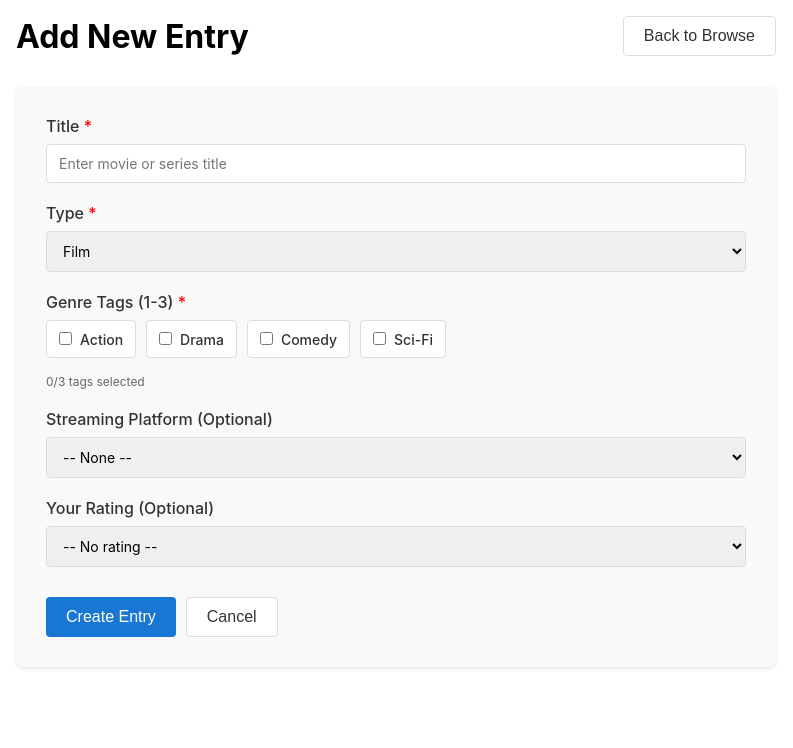
Test case: AddEntryPage › should prevent selecting more than 3 tags
Click the checkbox labelled "Action" at (66, 338), box [59,332,72,345]
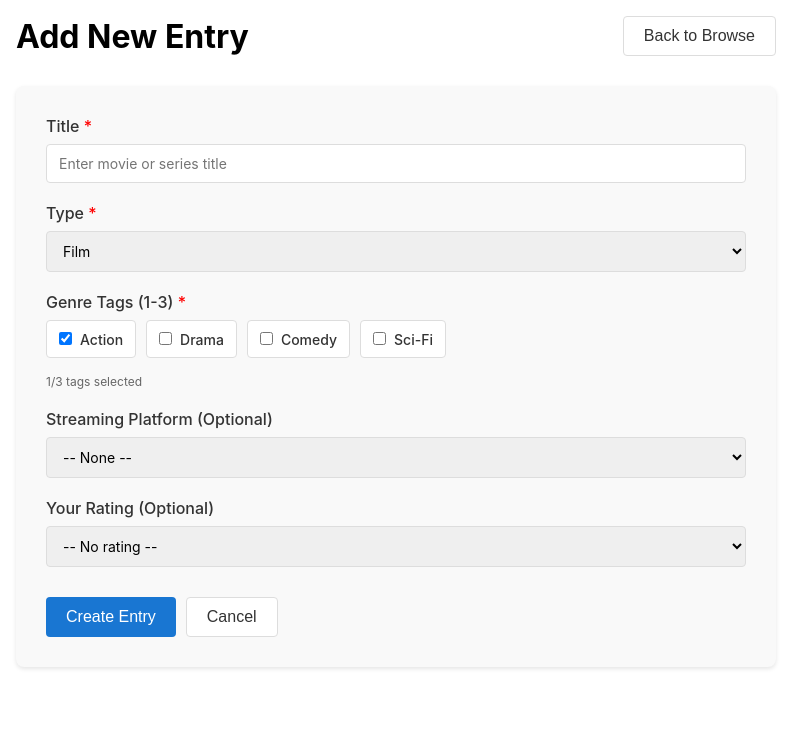
Click the checkbox labelled "Drama" at (166, 338), box [159,332,172,345]
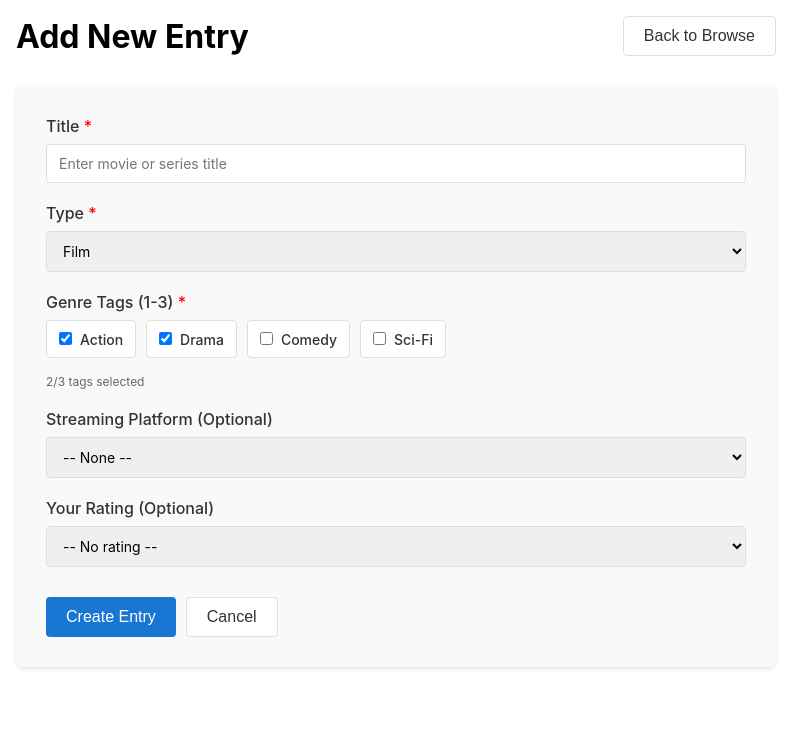
Click the checkbox labelled "Comedy" at (266, 338), box [260,332,273,345]
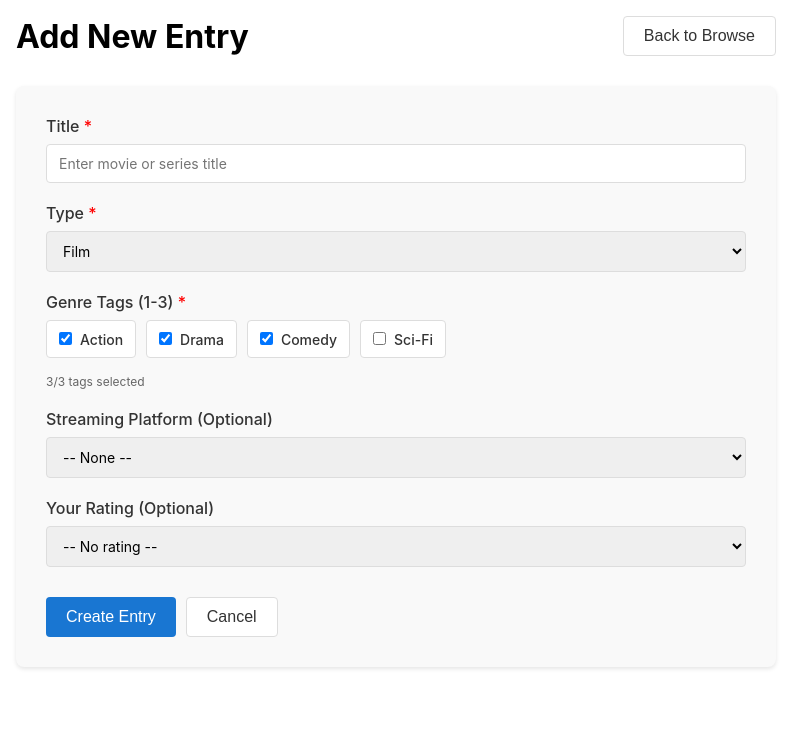
# Try to select 4th tag
Click the checkbox labelled "Sci-Fi" at (380, 338), box [373,332,386,345]
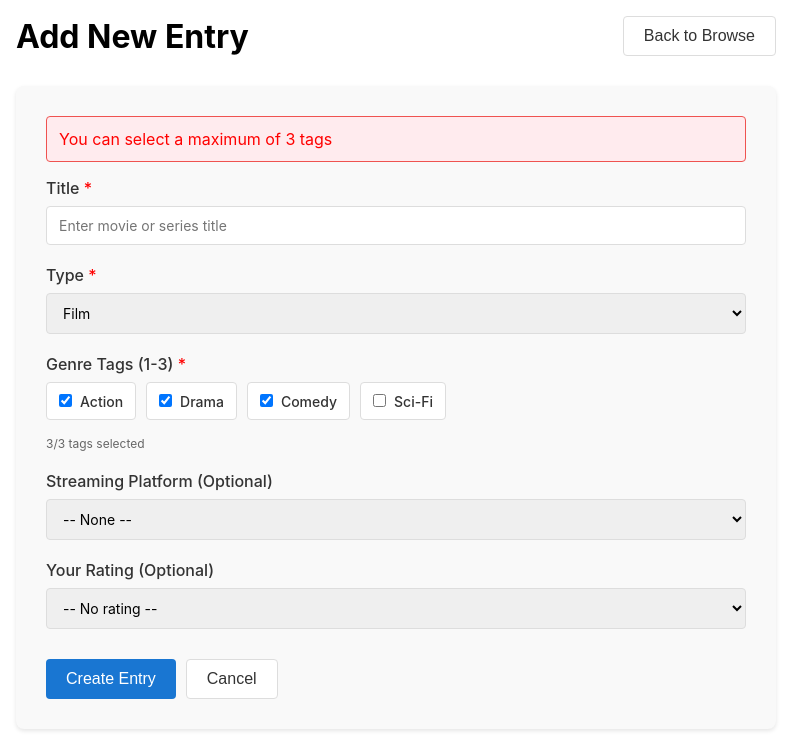
Expected: the checkbox labelled "Sci-Fi" is not checked, [373,394,386,407]
Now the text "You can select a maximum of 3 tags" is shown, box [46,116,746,162]
